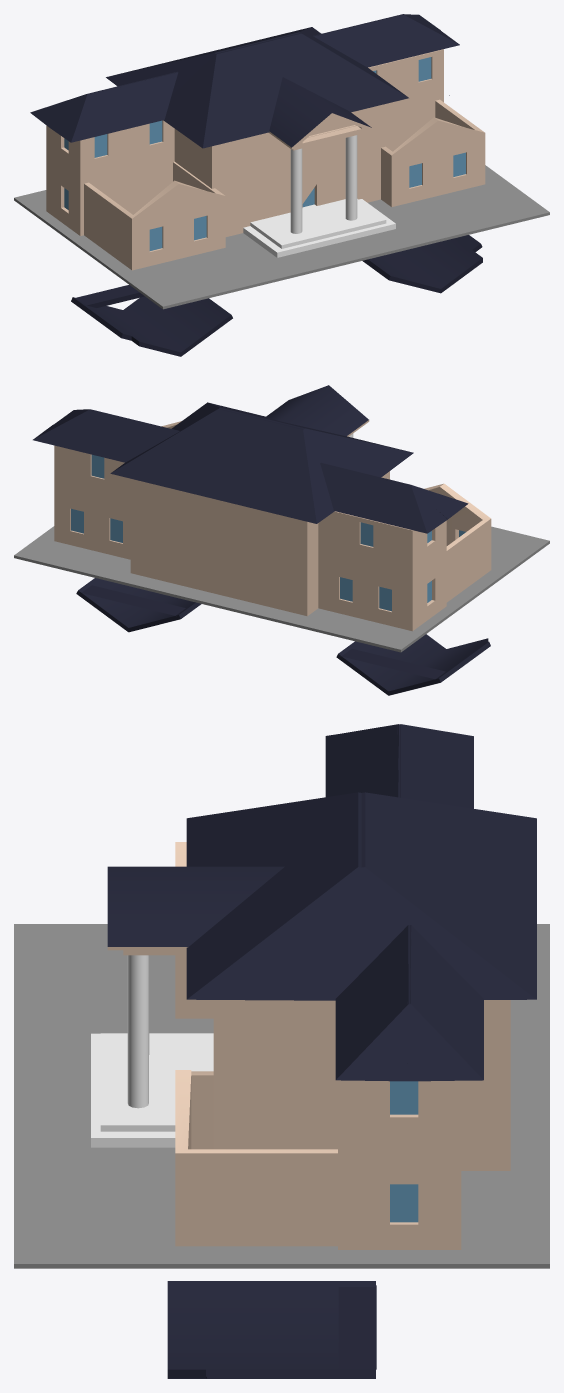
The model's file is Dom VII.FBX.
3 renders of one model, top to bottom at view 1: azimuth 30°, elevation 25°; view 2: azimuth 150°, elevation 25°; view 3: azimuth 270°, elevation 25°, orthographic. The views are drawn at different scales.
Visible parts, largest first — view 1: Object, Box001, Plane001, Object003, Box005, Box056, Box003, Box053, Box054, Box051, Cylinder001, Cylinder002 (+3 smaller); view 2: Object, Box001, Box005, Plane001, Object003, Box003, Box045, Box046; view 3: Object, Plane001, Box001, Object003, Box056, Box003, Box053, Cylinder002, Box054, Box046.
Boxes of the visible parts, x1=… form: Object: x1=30, y1=14, x2=459, y2=148; Box001: x1=84, y1=103, x2=388, y2=270; Plane001: x1=14, y1=165, x2=549, y2=309; Object003: x1=71, y1=235, x2=482, y2=356; Box005: x1=46, y1=120, x2=174, y2=235; Box056: x1=381, y1=99, x2=485, y2=207; Box003: x1=368, y1=49, x2=443, y2=151; Box053: x1=250, y1=199, x2=386, y2=248; Box054: x1=243, y1=199, x2=395, y2=257; Box051: x1=268, y1=113, x2=372, y2=149; Cylinder001: x1=290, y1=148, x2=302, y2=233; Cylinder002: x1=345, y1=135, x2=357, y2=220; Object: x1=33, y1=385, x2=468, y2=533; Box001: x1=130, y1=471, x2=491, y2=616; Box005: x1=318, y1=511, x2=446, y2=631; Plane001: x1=14, y1=526, x2=549, y2=652; Object003: x1=76, y1=578, x2=490, y2=695; Box003: x1=54, y1=445, x2=130, y2=559; Box045: x1=340, y1=522, x2=431, y2=611; Box046: x1=71, y1=454, x2=122, y2=542; Object: x1=107, y1=724, x2=536, y2=1081; Plane001: x1=14, y1=924, x2=549, y2=1268; Box001: x1=175, y1=842, x2=510, y2=1170; Object003: x1=167, y1=1281, x2=376, y2=1378; Box056: x1=175, y1=1070, x2=337, y2=1246; Box003: x1=338, y1=1080, x2=461, y2=1249; Box053: x1=100, y1=1033, x2=213, y2=1131; Cylinder002: x1=127, y1=955, x2=148, y2=1108; Box054: x1=91, y1=1033, x2=175, y2=1147; Box046: x1=390, y1=1081, x2=418, y2=1222.
Size of the model in its own units: 3.05 by 1.79 by 2.
